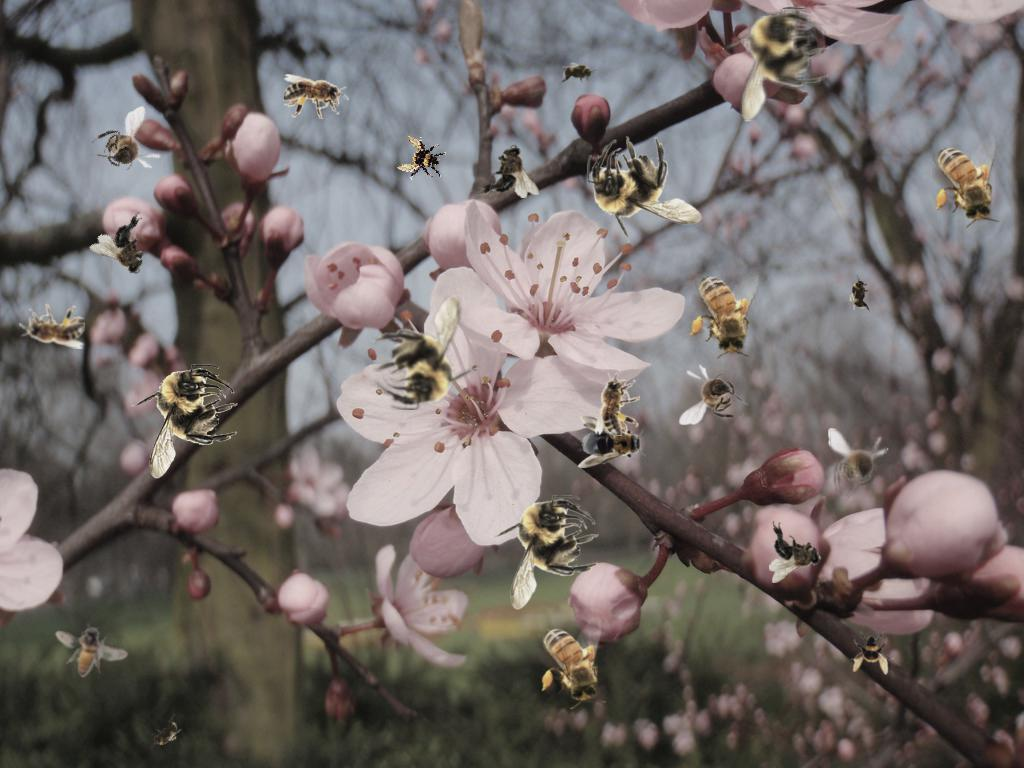Bee: (372, 295, 479, 410), (587, 136, 702, 243), (131, 364, 238, 479), (492, 495, 599, 610), (722, 7, 829, 122), (683, 261, 765, 364), (80, 104, 171, 192), (43, 607, 131, 692), (86, 208, 169, 288), (932, 135, 1000, 228), (538, 616, 606, 709), (828, 428, 889, 498), (679, 364, 749, 425), (578, 416, 646, 468), (769, 521, 822, 583), (477, 145, 539, 198), (19, 304, 85, 349), (595, 370, 640, 436), (283, 74, 349, 119), (395, 133, 449, 187), (851, 631, 895, 675), (142, 713, 188, 755), (557, 61, 599, 85), (849, 274, 871, 314)
